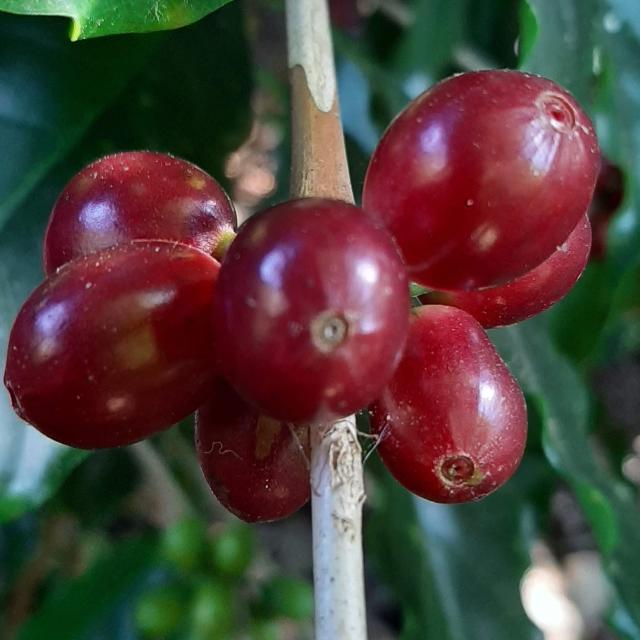red: (363, 69, 601, 291), (3, 241, 220, 450), (213, 197, 410, 423), (371, 305, 528, 504), (43, 151, 236, 275), (420, 214, 592, 328), (195, 381, 310, 523)
